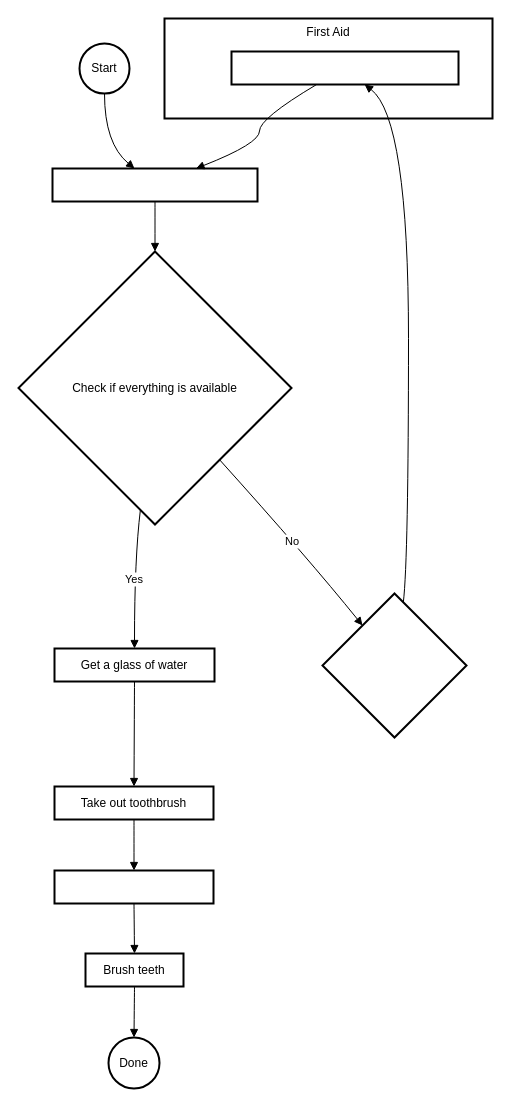
Image size: 510x1106. Some labels were removed from this diagram. The shapes that lost their labels are listed below. From the top down, each one's centre as x and y in pixels, then its label:
At point (344, 67): "Alert user about missing item".
At point (154, 184): "Prepare for brushing teeth".
At point (394, 665): "Missing items".
At point (133, 886): "Take out toothpaste".
